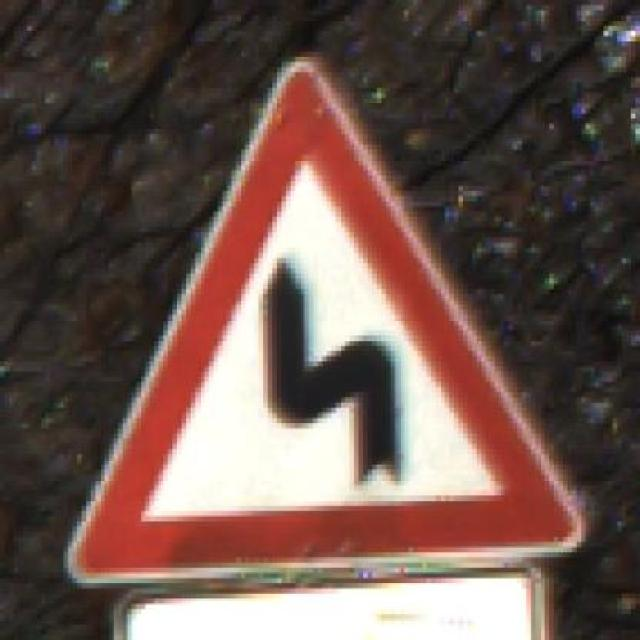Left Zig Zag Traffic: (64, 36, 590, 604)
